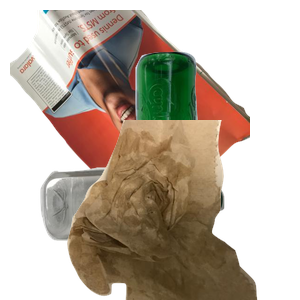glass: (129, 49, 300, 229)
paper: (10, 10, 250, 190)
plastic: (38, 165, 255, 300)
trash: (65, 120, 300, 300)
